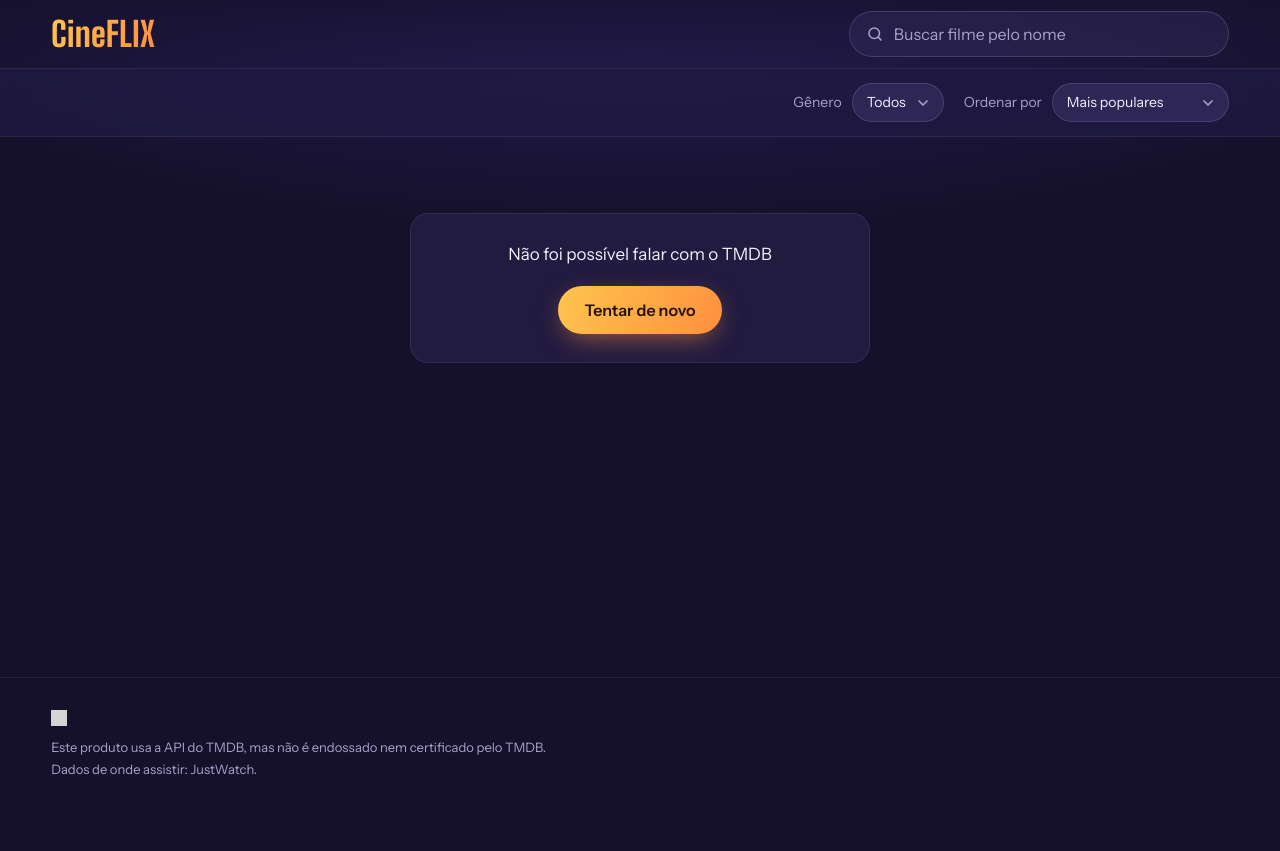
Scenario: sem internet: "Tentar de novo" refaz o pedido e recarrega a lista de streamings
Check: the text "Não foi possível falar com o TMDB" is shown, box top-left (508, 244), bottom-right (772, 264)
Step 1. Click the button "Tentar de novo" → click(640, 310), box top-left (558, 286), bottom-right (722, 334)
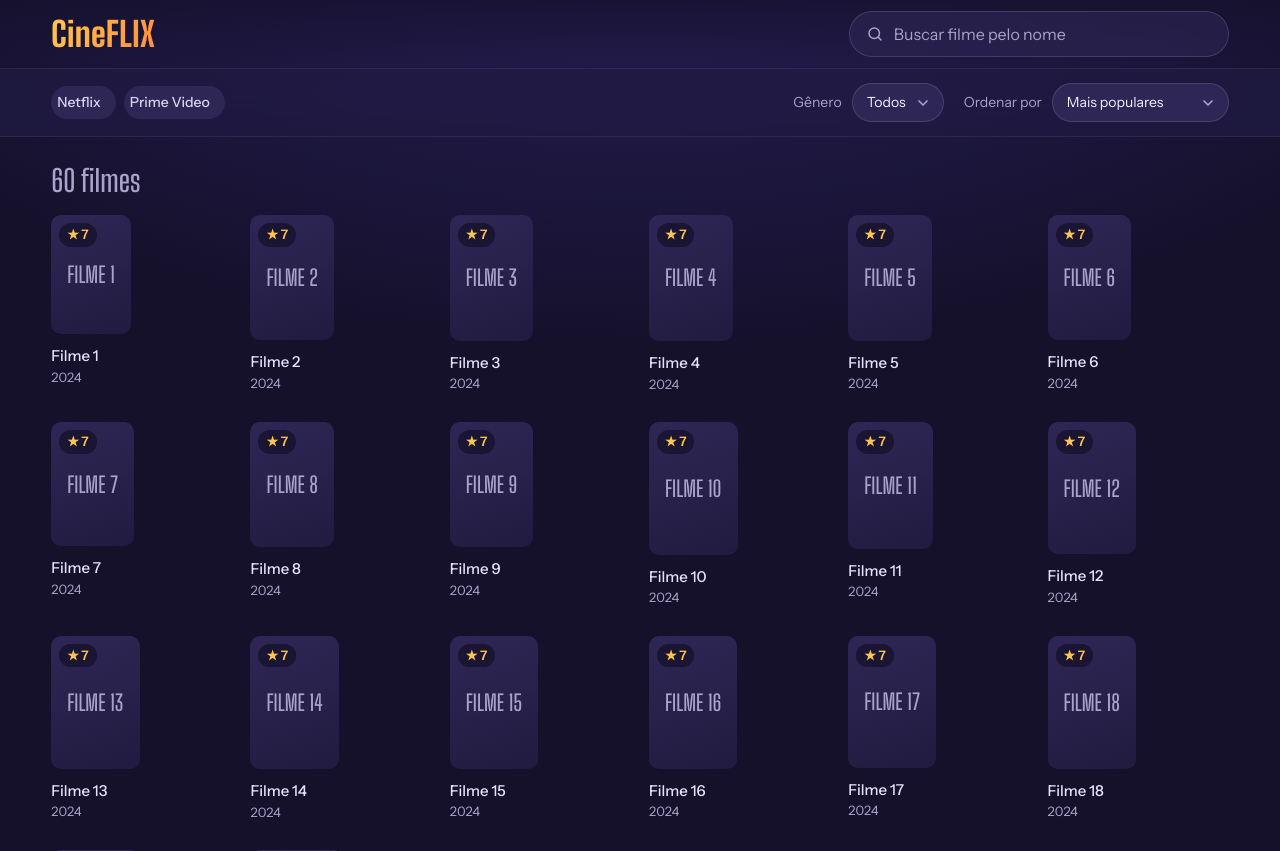
Check: the text "60 filmes" is shown, box top-left (51, 162), bottom-right (140, 198)
Check: the button "Netflix" is shown, box top-left (51, 86), bottom-right (116, 119)
